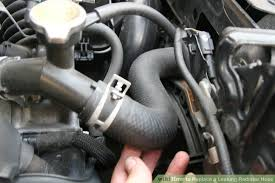radiator_hose: (85, 47, 174, 148)
